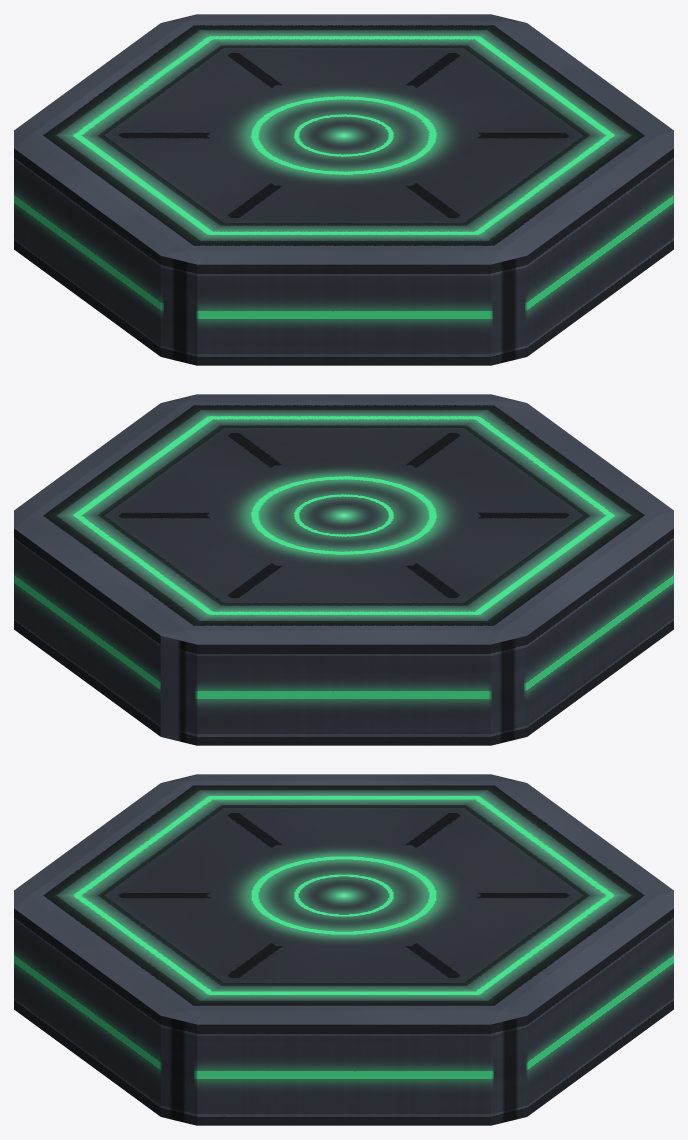
The model's file is goalPad.obj.
3 views of the same model, one above another, from view 1: azimuth 30°, elevation 25°; view 2: azimuth 150°, elevation 25°; view 3: azimuth 270°, elevation 25° (orthographic).
Visible parts, largest first — view 1: 円柱; view 2: 円柱; view 3: 円柱.
Boxes of the visible parts, x1,y1,x2,y2 form: 円柱: (14, 14, 673, 365); 円柱: (14, 394, 673, 745); 円柱: (14, 774, 673, 1125).
Size of the model in its own units: 2.6 by 0.5268 by 2.89.
Materials: 1 (1 with a texture image).
